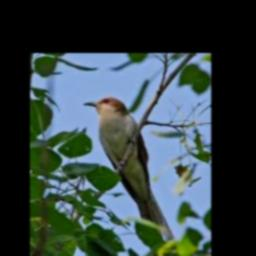Cuckoo: (83, 97, 174, 256)
